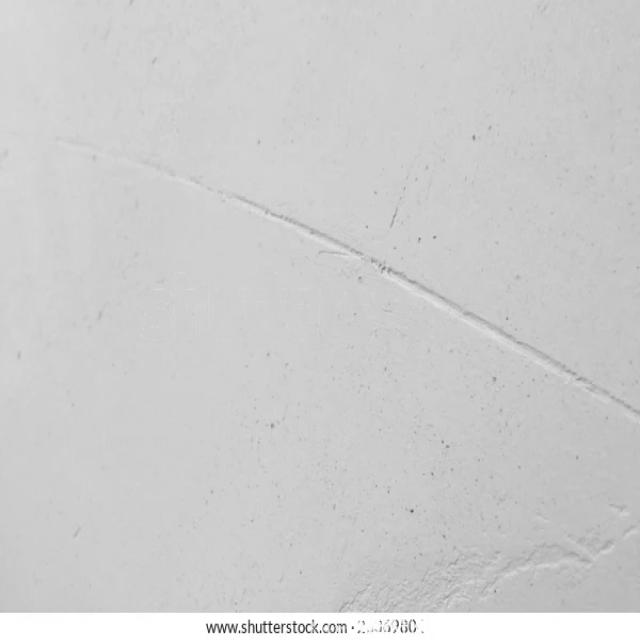rough and patchy surface: (11, 8, 640, 613)
